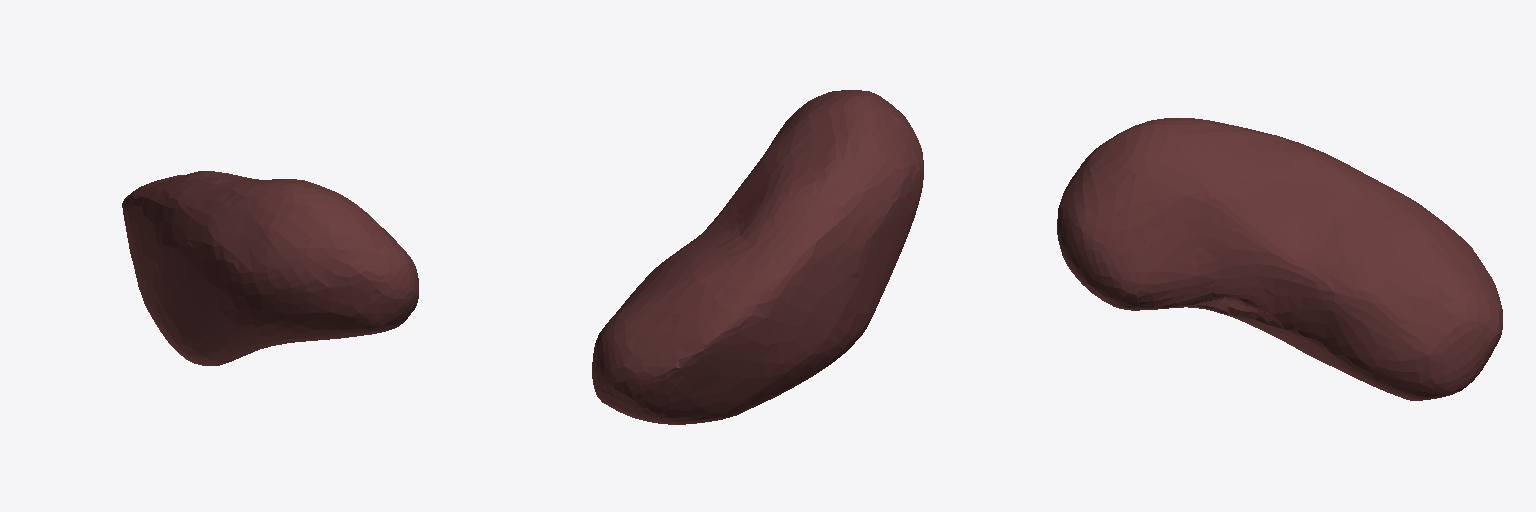
The model's file is kidney_tumor.obj.
3 renders of one model, left to right at view 1: azimuth 30°, elevation 25°; view 2: azimuth 150°, elevation 25°; view 3: azimuth 270°, elevation 25°, orthographic.
Visible parts, largest first — view 1: kidney_tumor_Model::org.Ren_dexter.003; view 2: kidney_tumor_Model::org.Ren_dexter.003; view 3: kidney_tumor_Model::org.Ren_dexter.003.
Boxes of the visible parts, x1=… form: kidney_tumor_Model::org.Ren_dexter.003: x1=122, y1=171, x2=418, y2=365; kidney_tumor_Model::org.Ren_dexter.003: x1=592, y1=90, x2=923, y2=424; kidney_tumor_Model::org.Ren_dexter.003: x1=1057, y1=118, x2=1502, y2=400.
Size of the model in its own units: 0.9352 by 1.1 by 1.85.